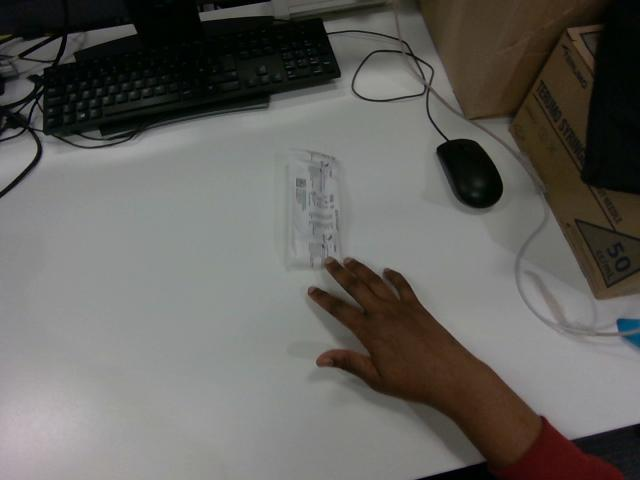syringe: (287, 150, 340, 268), (617, 318, 639, 332)
